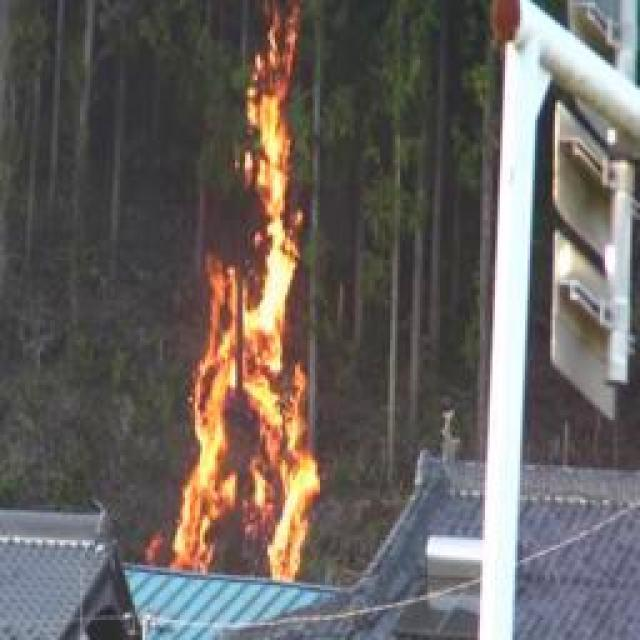Fire: (172, 23, 334, 585)
